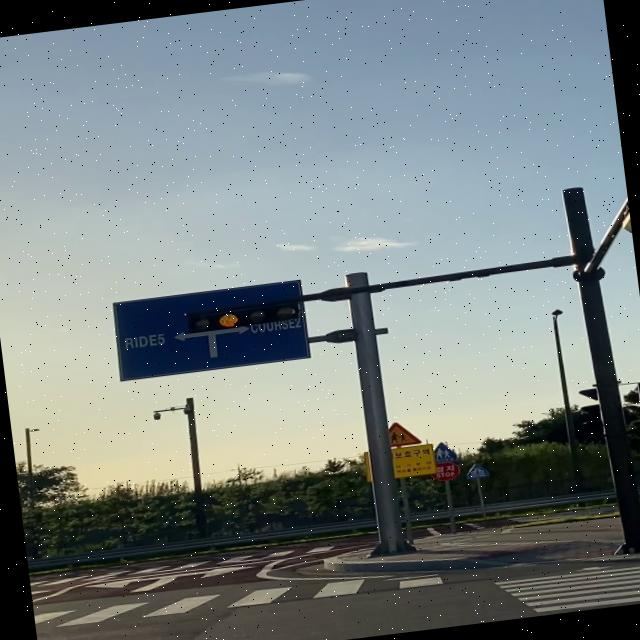yellow_light: (186, 302, 302, 332)
